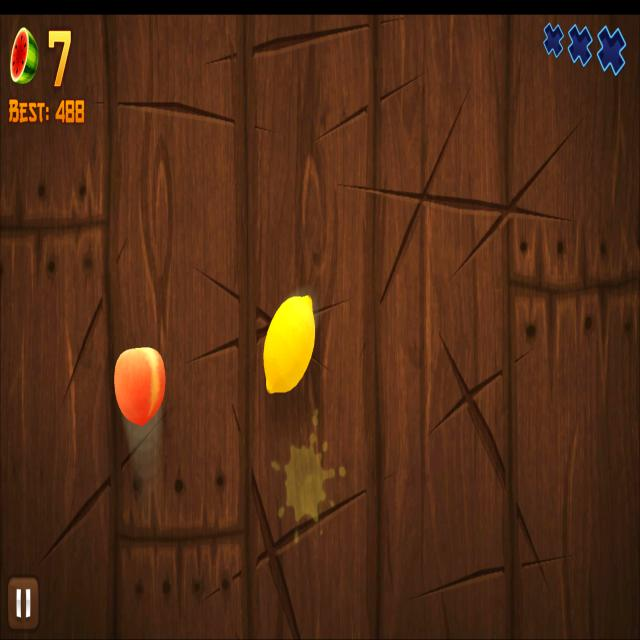fruit: (262, 294, 316, 396), (114, 345, 166, 426)
